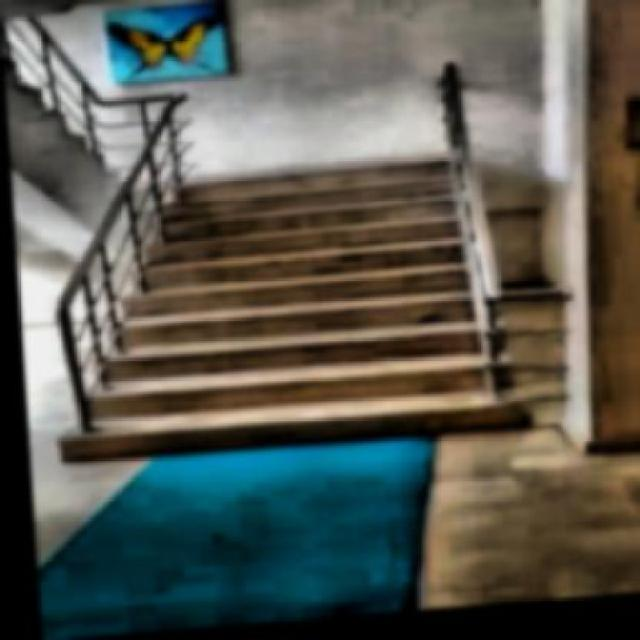stair: (36, 155, 536, 471)
